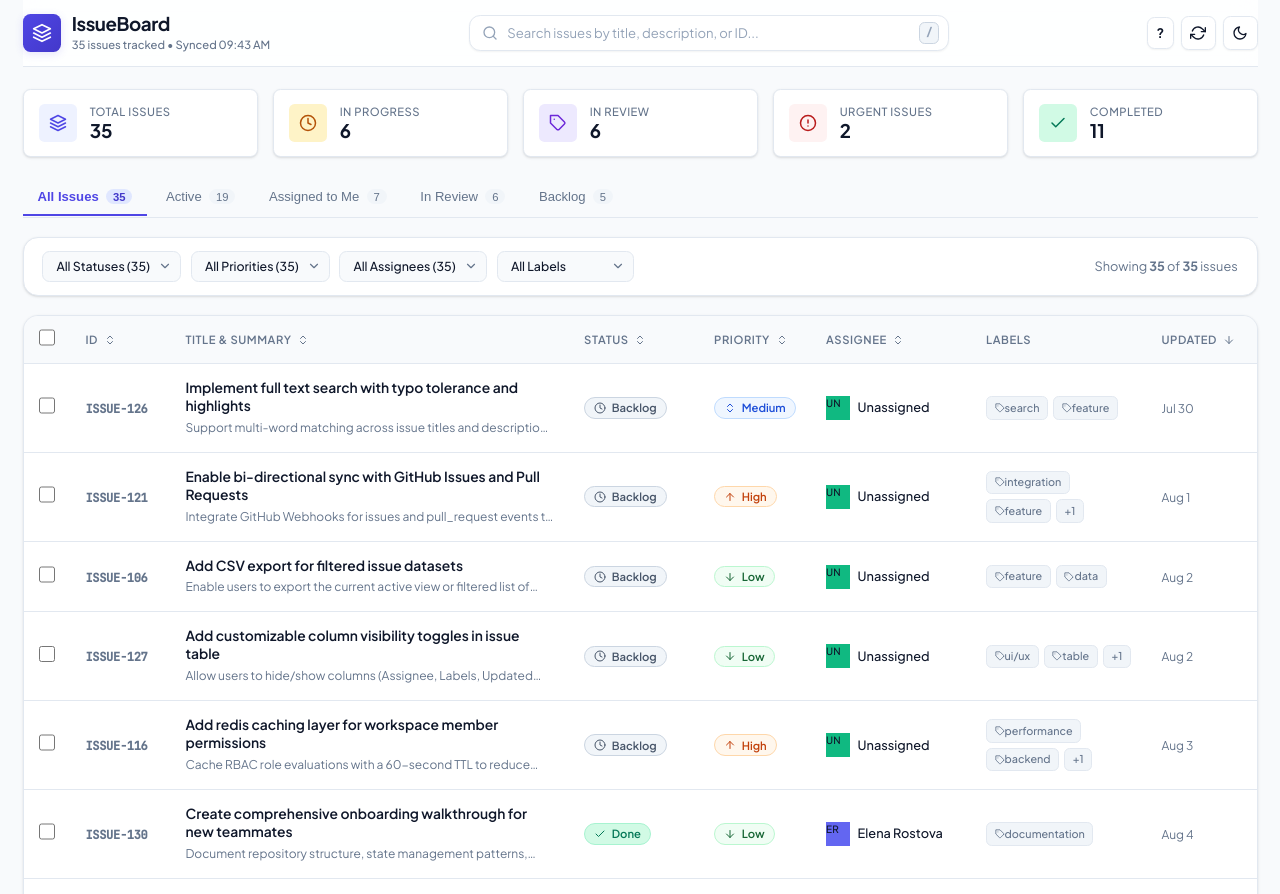
Test: Issue Filters and Search › clears active filters and restores full issue list
Type "OAuth2" into the field labelled "Search issues by title, description, or ID...". click: (709, 33)
box: [469,15,949,51]
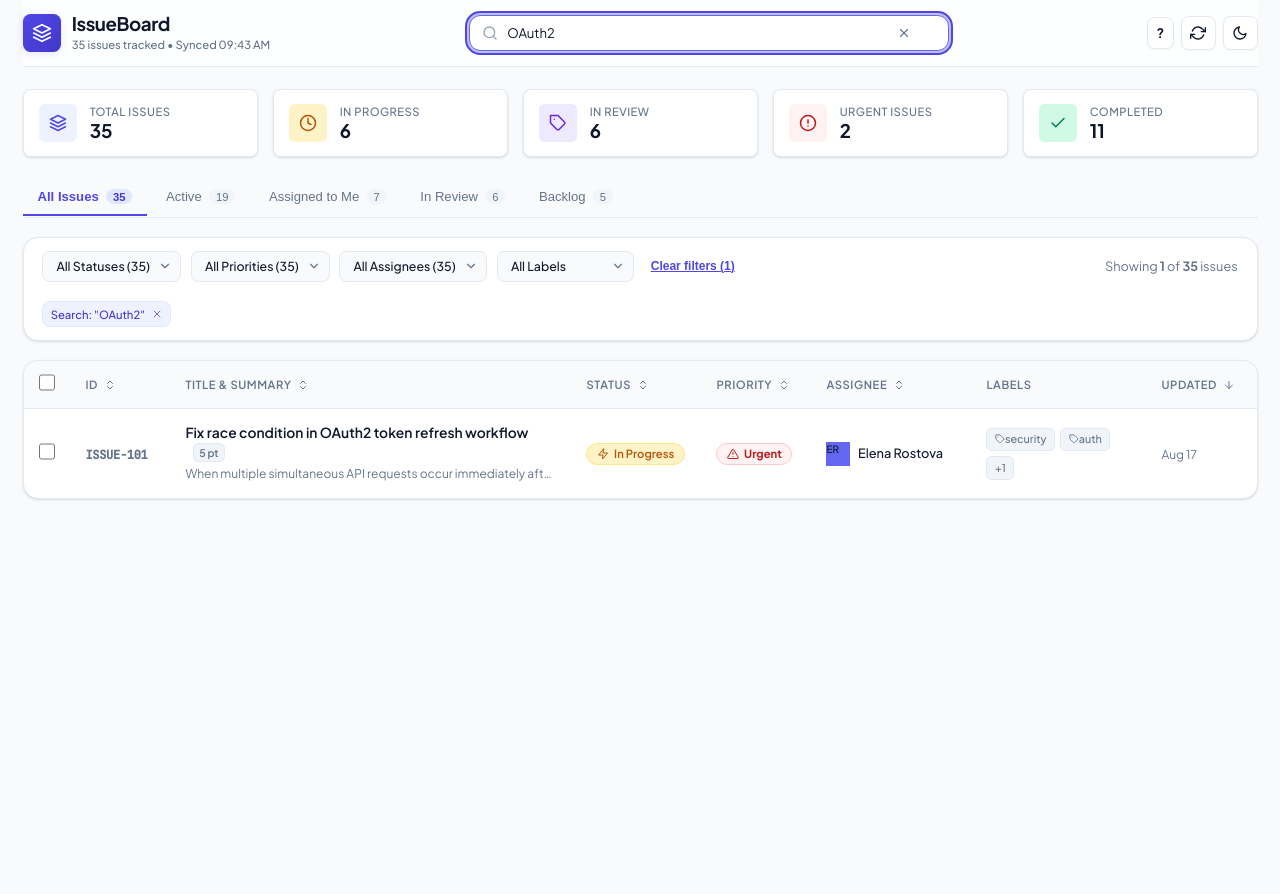
Check: the button "Clear filters (1)" is shown
Click the button "Clear filters (1)". click: (693, 266)
box: [643,256,742,277]
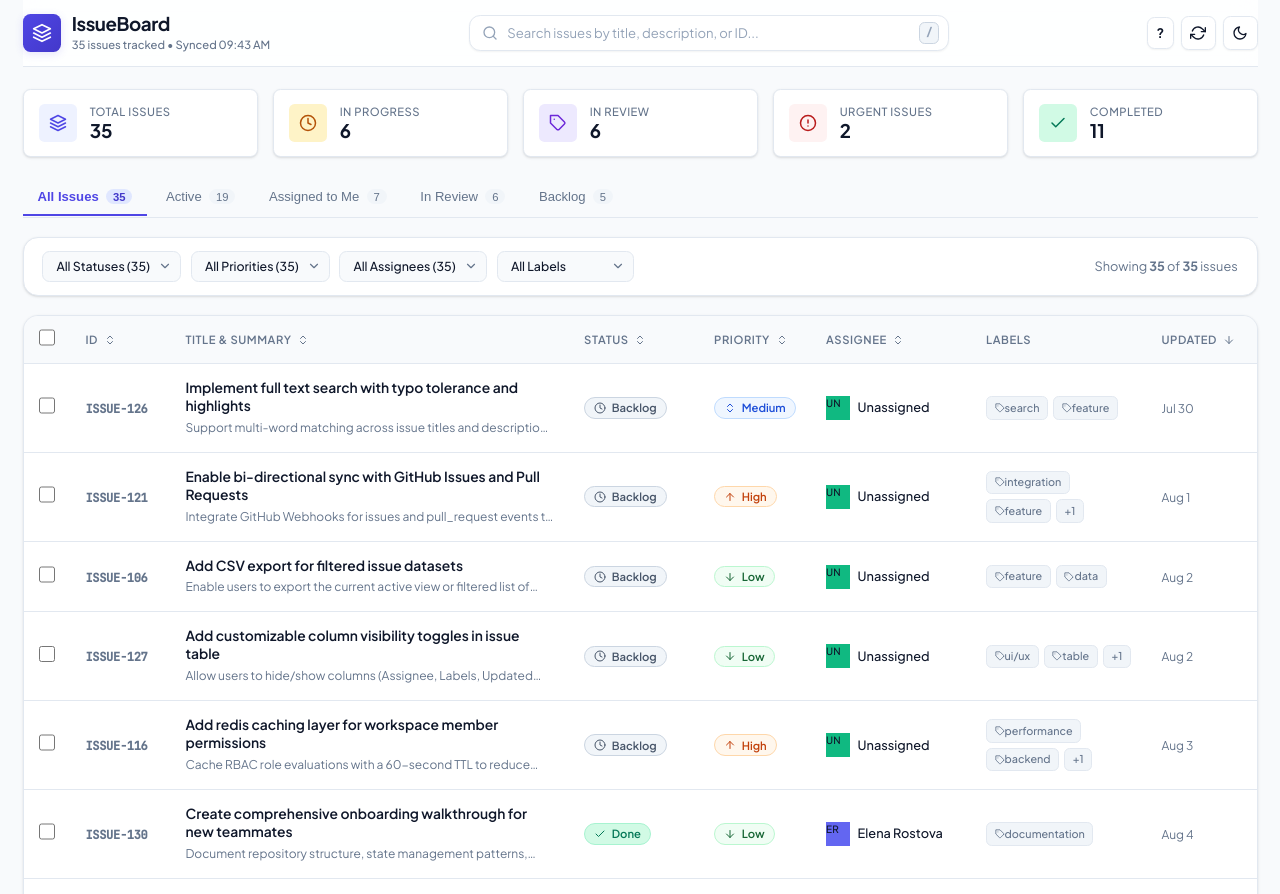
Check: the field labelled "Search issues by title, description, or ID..." is empty, box [469,15,949,51]
